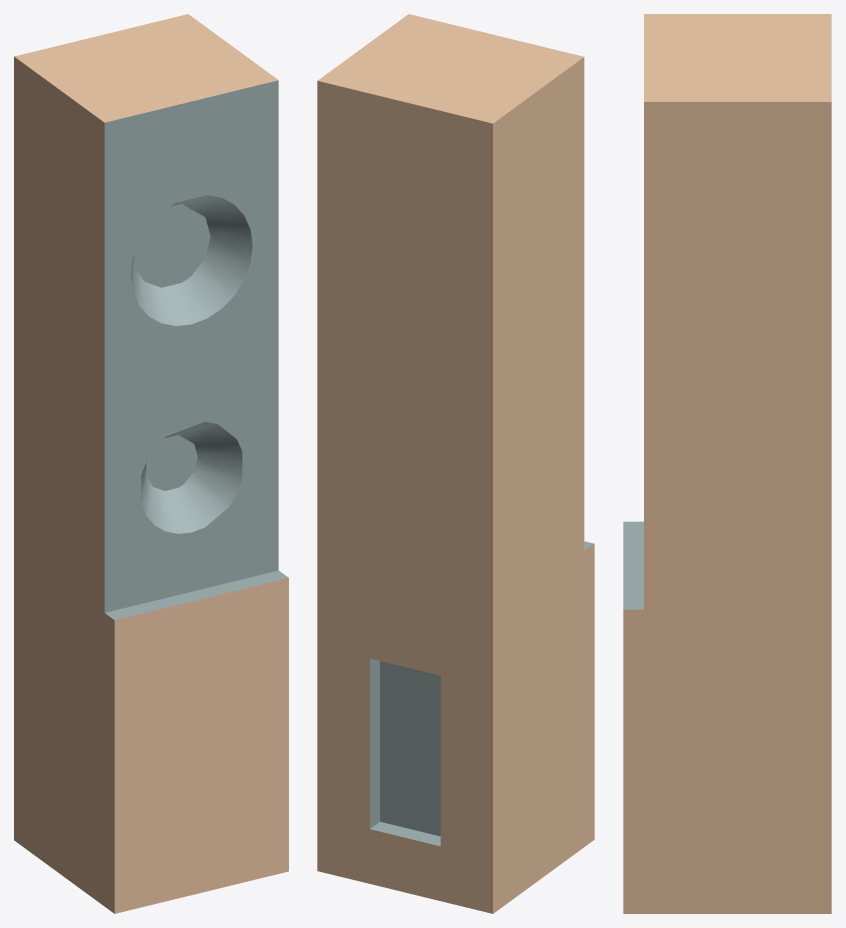
File: speaker2.glb
The picture shows the model from 3 angles, left to right: view 1: azimuth 30°, elevation 25°; view 2: azimuth 150°, elevation 25°; view 3: azimuth 270°, elevation 25°; orthographic projection. The views are drawn at different scales.
Visible parts, largest first — view 1: speaker(Clone); view 2: speaker(Clone); view 3: speaker(Clone).
Boxes of the visible parts, x1,y1,x2,y2 form: speaker(Clone): (14, 14, 288, 913); speaker(Clone): (317, 14, 594, 913); speaker(Clone): (623, 14, 831, 913).
Bounding box in the file's own units: 0.148 × 0.6364 × 0.148.
